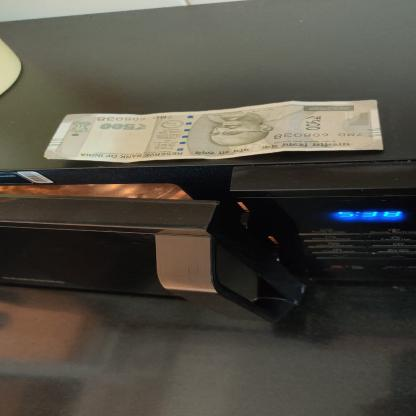New500Front: (41, 100, 385, 163)
